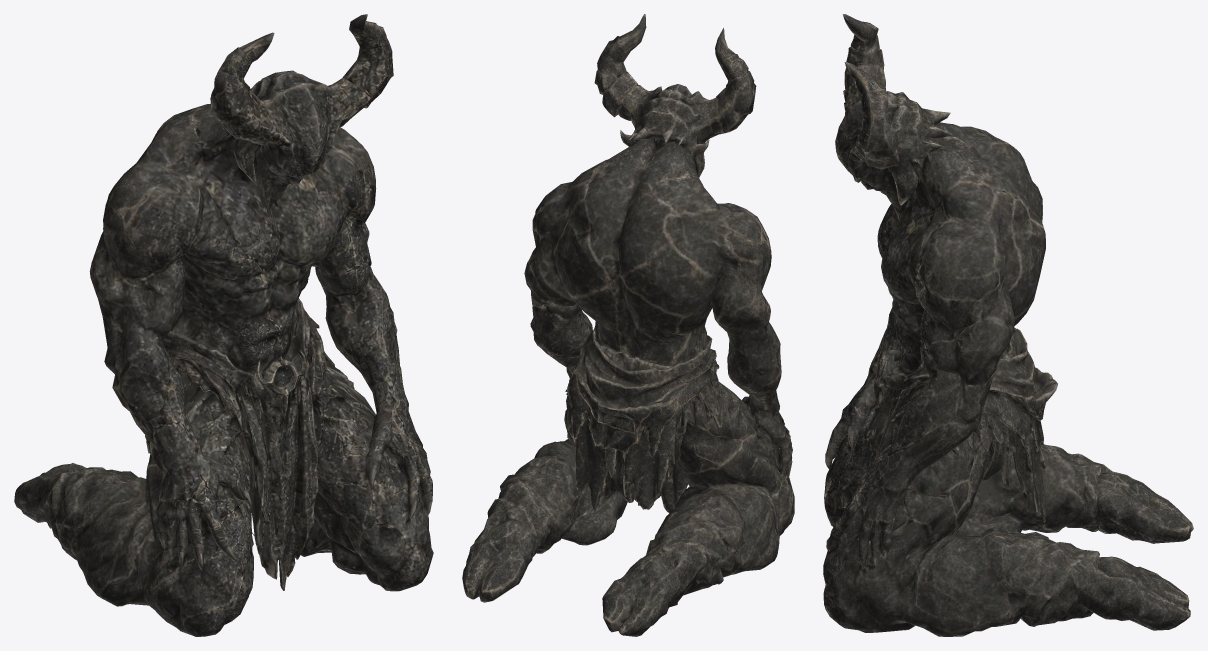
File: kneeling-colossus.glb
3 renders of one model, left to right at view 1: azimuth 30°, elevation 25°; view 2: azimuth 150°, elevation 25°; view 3: azimuth 270°, elevation 25°, orthographic. The views are drawn at different scales.
Size of the model in its own units: 1 by 1.9 by 1.15.
1 material, 1 textured.
